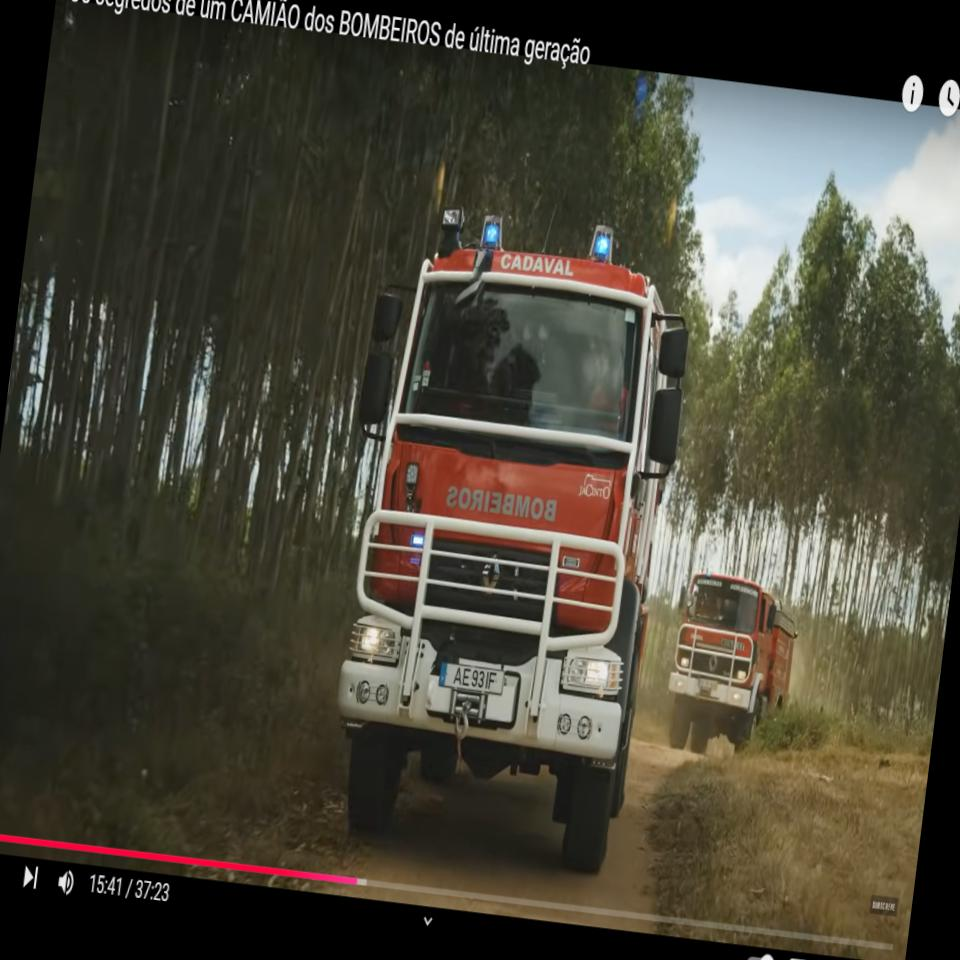viatura: (300, 184, 708, 878), (660, 566, 804, 764)
